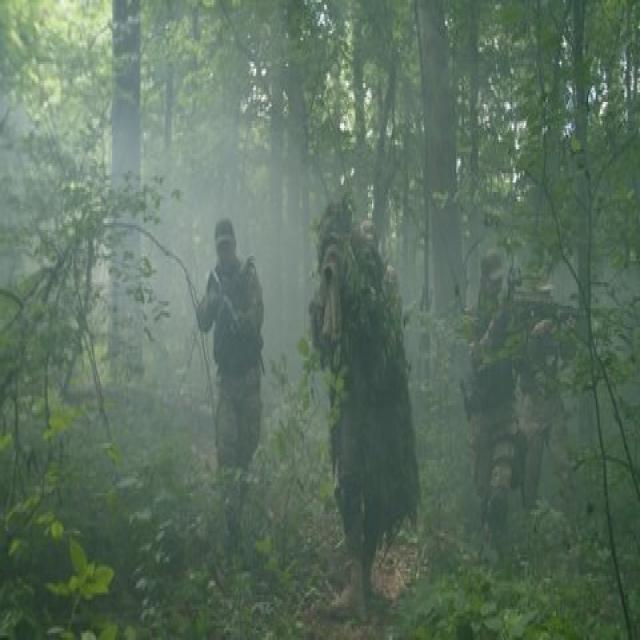Forest: (1, 0, 640, 640)
Militant: (307, 185, 421, 627), (190, 199, 268, 581), (456, 240, 527, 572), (518, 255, 592, 526)
